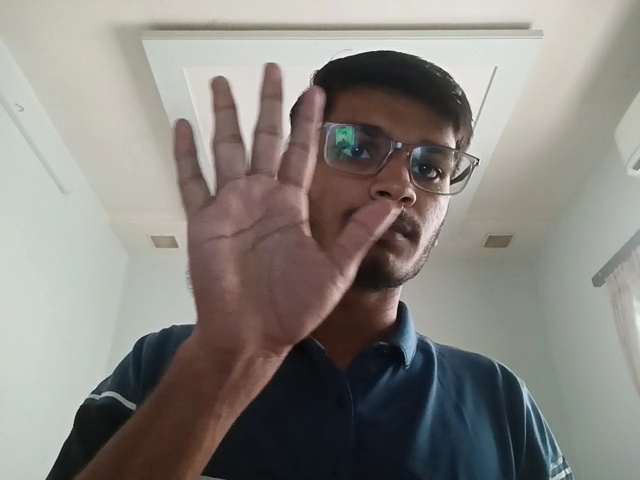Hello: (165, 57, 403, 371)
